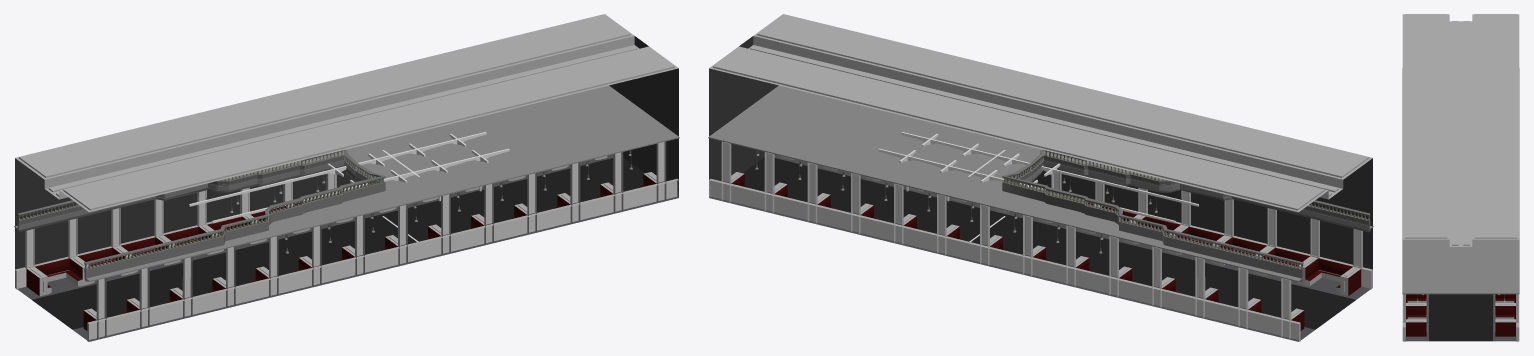
Rendered from thecube2.fbx.
3 views of the same model, side by side, from view 1: azimuth 30°, elevation 25°; view 2: azimuth 150°, elevation 25°; view 3: azimuth 270°, elevation 25° (orthographic). The views are drawn at different scales.
Parts seen in each view (by area): view 1: Circle, Cube.001; view 2: Circle, Cube.001; view 3: Circle.
Boxes of the visible parts, <box> form: Circle: <box>14,14,679,341</box>; Cube.001: <box>189,132,509,223</box>; Circle: <box>708,14,1373,341</box>; Cube.001: <box>878,132,1198,223</box>; Circle: <box>1402,14,1519,341</box>.
Bounding box in the file's own units: 1867 × 399 × 411.
